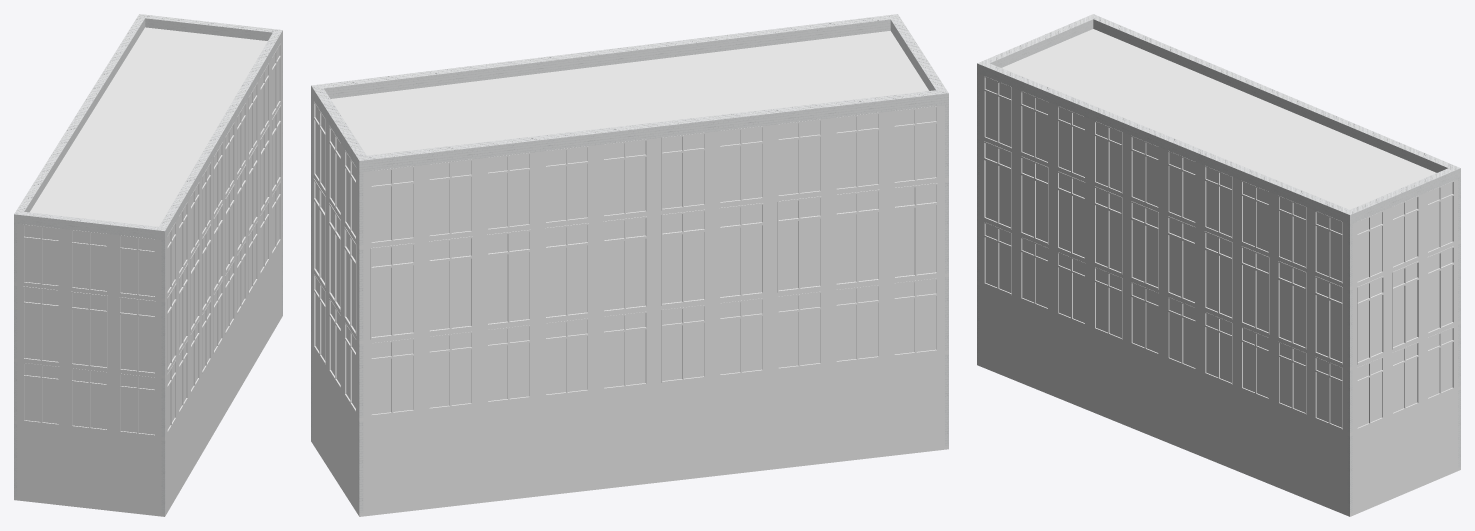
Rendered from clohc0ynk03fx4p02wb1fz8n1_0.glb.
The picture shows the model from 3 angles, left to right: view 1: azimuth 30°, elevation 25°; view 2: azimuth 150°, elevation 25°; view 3: azimuth 270°, elevation 25°; orthographic projection. The views are drawn at different scales.
Parts seen in each view (by area): view 1: _2 (×39), mesh_CityEnginePBRShader, mesh_Wall, _1 (×37), mesh_Glass, mesh_Brick; view 2: _2 (×32), mesh_Wall, mesh_CityEnginePBRShader, mesh_Glass, mesh_Brick, _1 (×26); view 3: _2 (×39), mesh_Wall, mesh_CityEnginePBRShader, mesh_Glass, mesh_Brick, _1 (×15).
Boxes of the visible parts, x1=… form: _2 (×39): x1=24, y1=46, x2=279, y2=434; mesh_CityEnginePBRShader: x1=14, y1=27, x2=282, y2=516; mesh_Wall: x1=17, y1=41, x2=281, y2=513; _1 (×37): x1=23, y1=43, x2=280, y2=436; mesh_Glass: x1=23, y1=244, x2=280, y2=512; mesh_Brick: x1=14, y1=14, x2=282, y2=513; _2 (×32): x1=315, y1=107, x2=936, y2=414; mesh_Wall: x1=312, y1=99, x2=944, y2=512; mesh_CityEnginePBRShader: x1=311, y1=30, x2=948, y2=516; mesh_Glass: x1=314, y1=351, x2=937, y2=511; mesh_Brick: x1=311, y1=14, x2=948, y2=512; _1 (×26): x1=313, y1=106, x2=937, y2=416; _2 (×39): x1=985, y1=78, x2=1452, y2=427; mesh_Wall: x1=979, y1=74, x2=1458, y2=512; mesh_CityEnginePBRShader: x1=977, y1=29, x2=1460, y2=516; mesh_Glass: x1=984, y1=287, x2=1453, y2=510; mesh_Brick: x1=977, y1=14, x2=1460, y2=513; _1 (×15): x1=984, y1=141, x2=1454, y2=414.
Size of the model in its own units: 27.01 by 18.89 by 27.44.
Materials: 5 (1 with a texture image).
